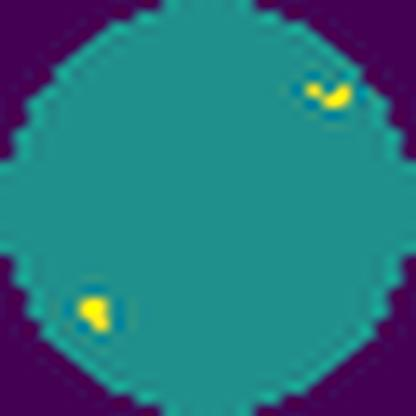Loc: (301, 72, 357, 117), (72, 293, 112, 340)
